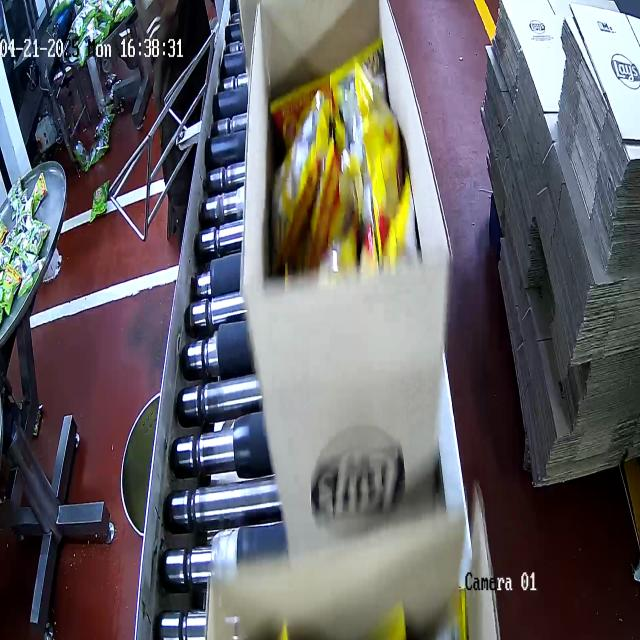SALTED: (267, 41, 408, 282)
